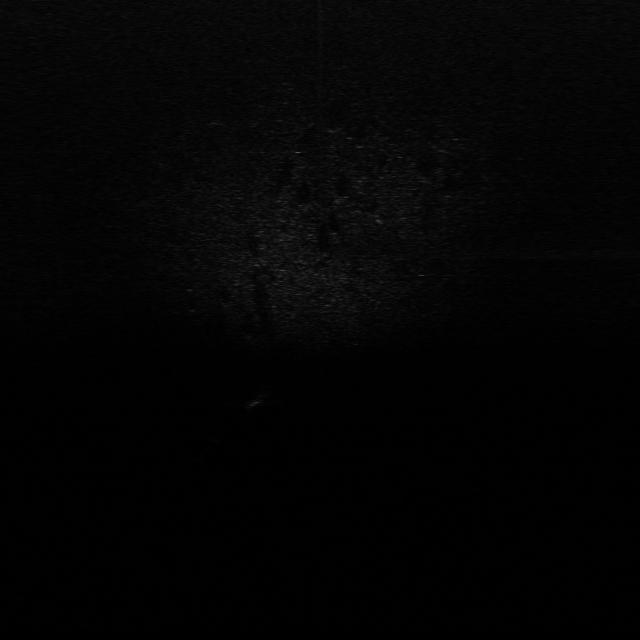human body: (236, 382, 280, 418)
